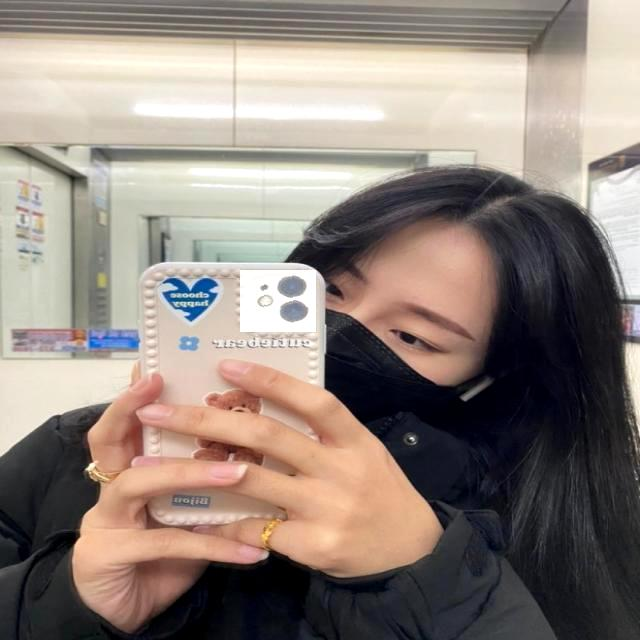lens_back: (278, 298, 310, 328), (275, 272, 309, 300)
phone: (135, 259, 331, 525)
